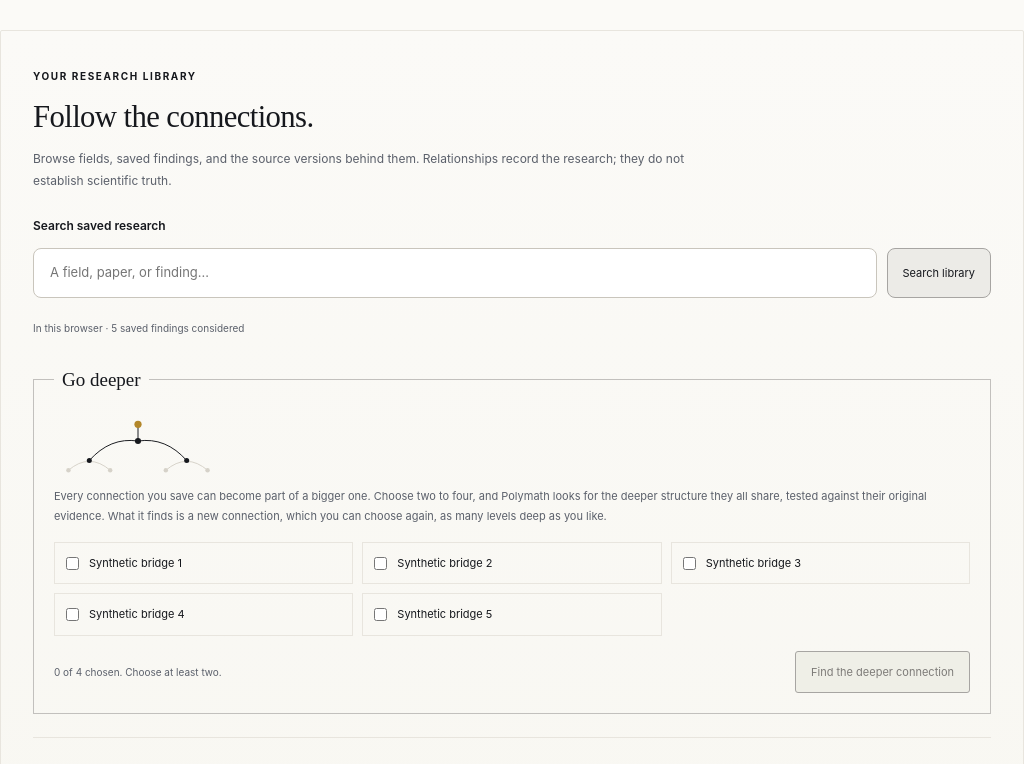
investigating connections between saved bridges › caps the selection and excludes saved answers or untyped older findings
The width and height of the screenshot is (1024, 764).
What coordinates should you click on to do the following:
click the checkbox labelled "Synthetic bridge 1"
I would click on:
 (72, 563)
Its box is [66,556,79,570].
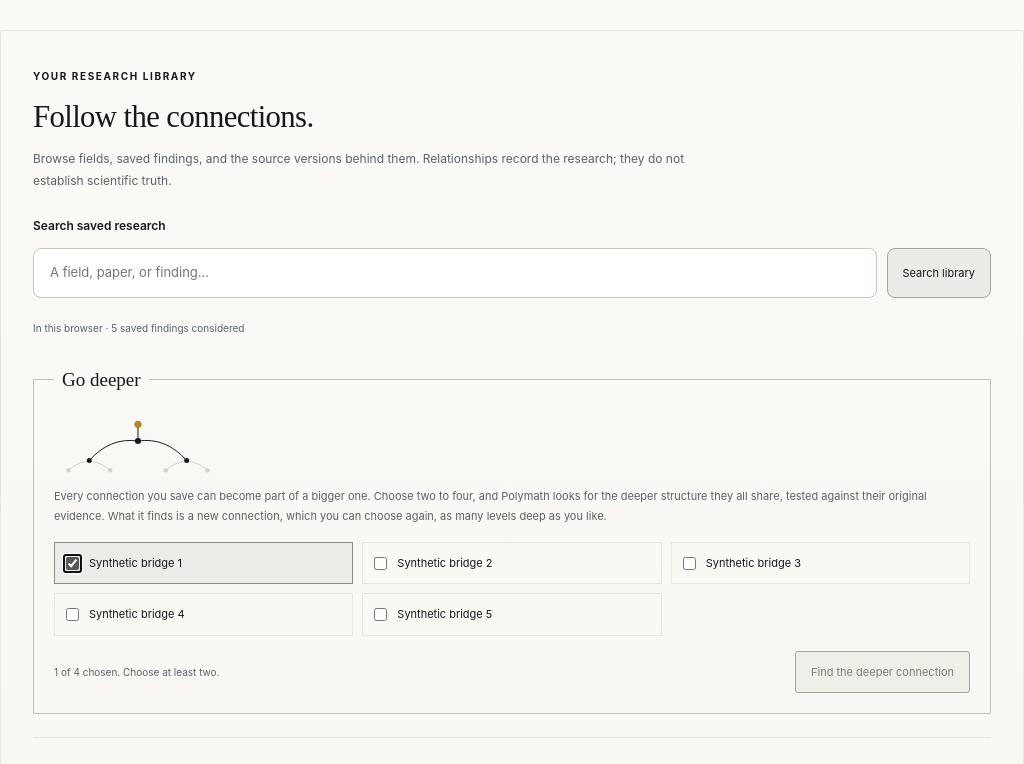
What coordinates should you click on to do the following:
click the checkbox labelled "Synthetic bridge 2"
I would click on:
 (381, 563)
Its box is [374,556,387,570].
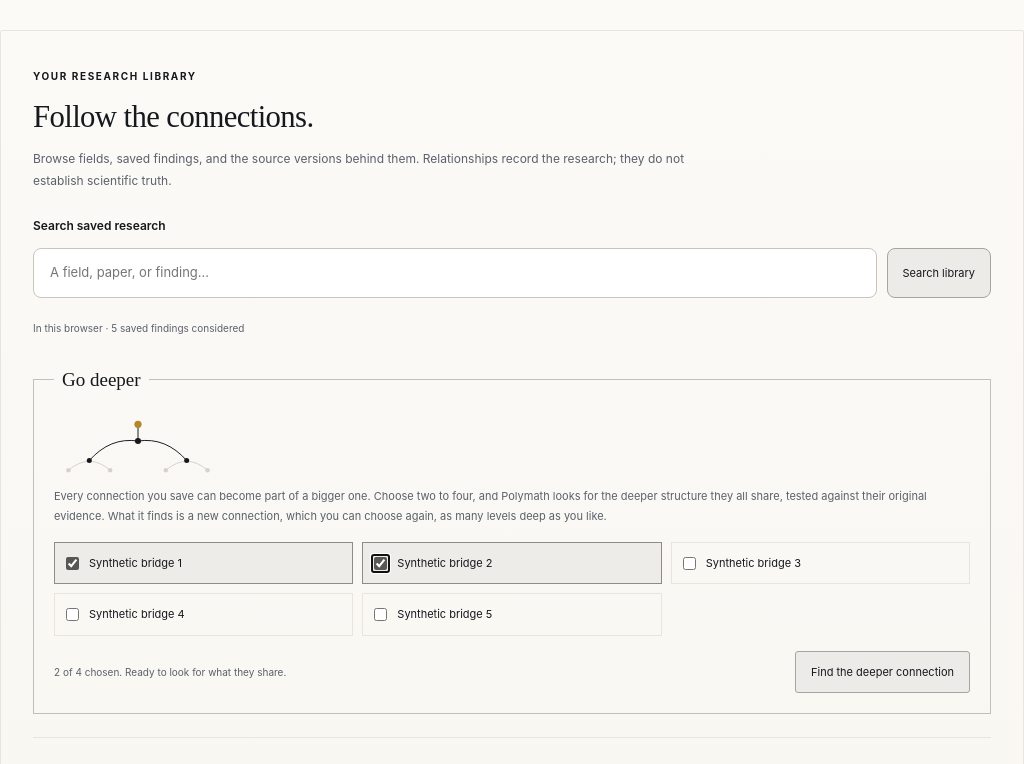
What coordinates should you click on to do the following:
click the checkbox labelled "Synthetic bridge 3"
I would click on:
 (689, 563)
Its box is [683,556,696,570].
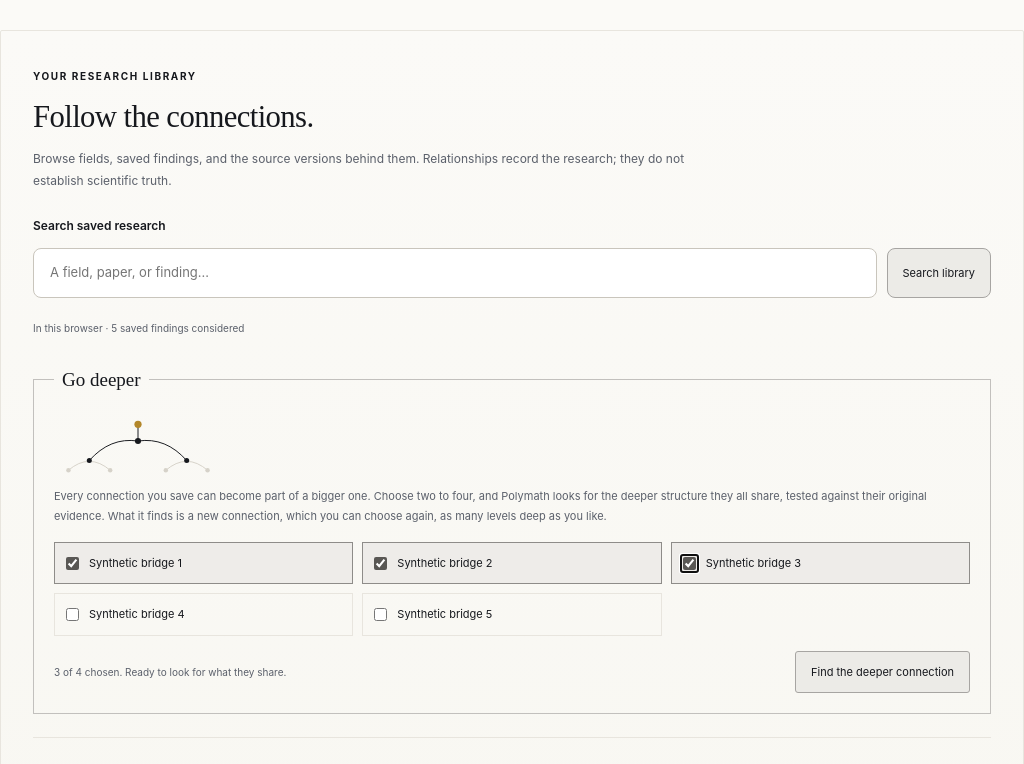
What coordinates should you click on to do the following:
click the checkbox labelled "Synthetic bridge 4"
I would click on:
 (72, 615)
Its box is [66,608,79,621].
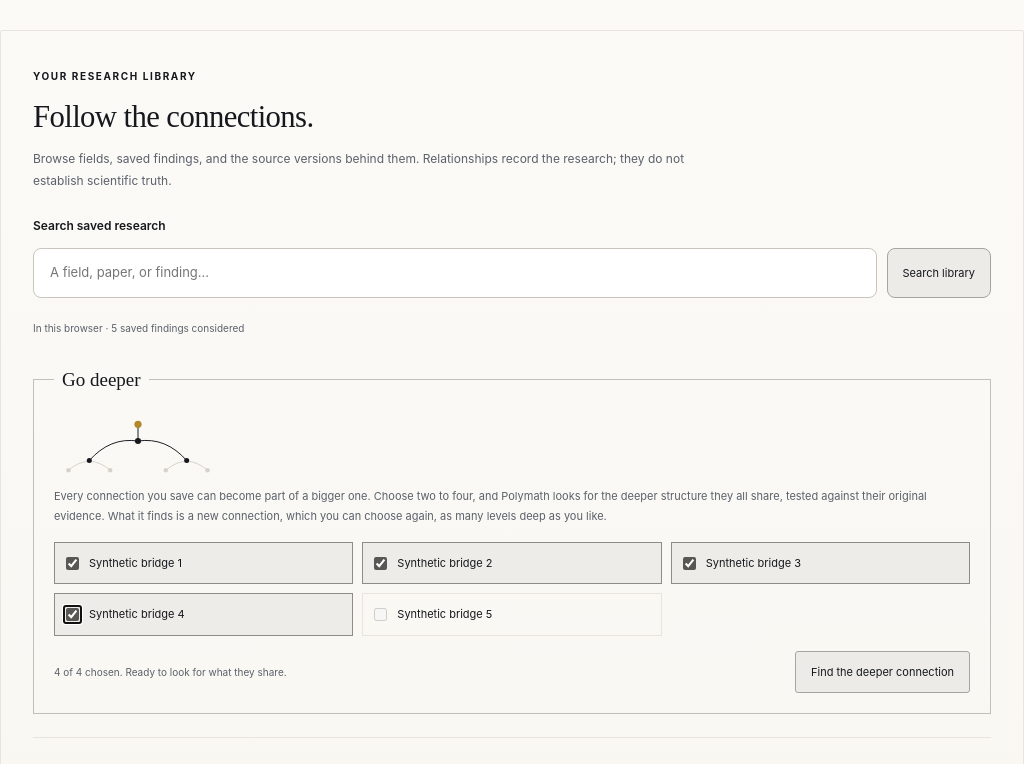
Expected: the checkbox labelled "Synthetic bridge 5" is disabled, [374,608,387,621]
What coordinates should you click on to do the following:
click the checkbox labelled "Synthetic bridge 1"
I would click on:
 (72, 563)
Its box is [66,556,79,570].
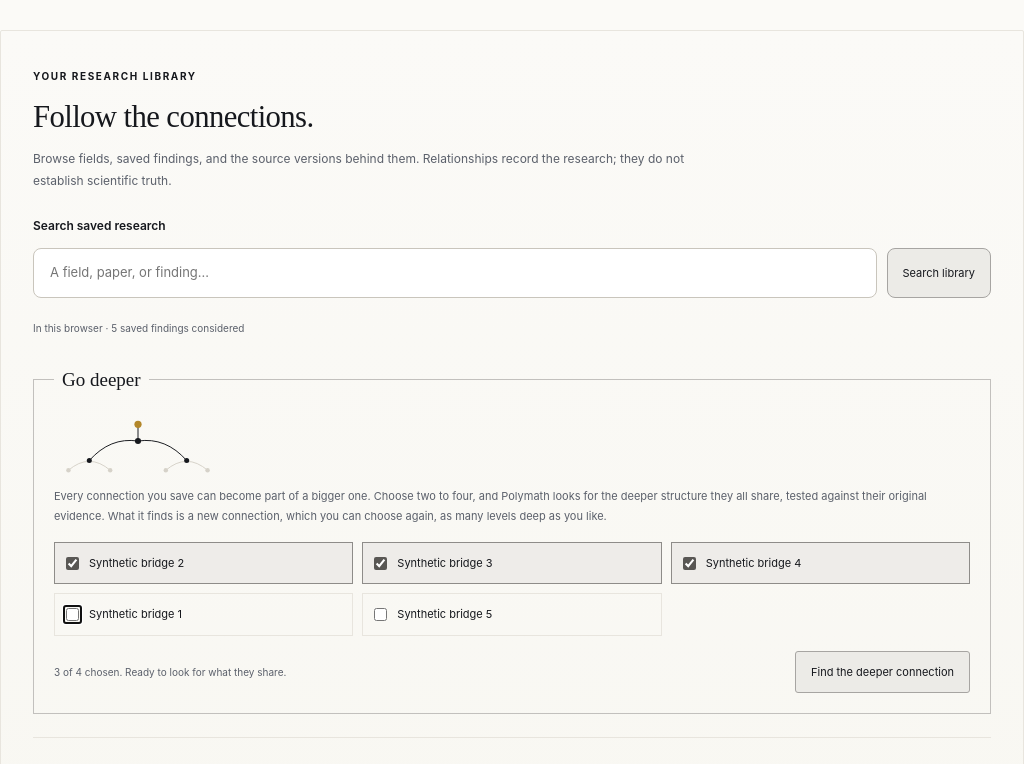
Expected: the button "Find the deeper connection" is enabled, [795,651,970,693]
Expected: the checkbox labelled "Synthetic bridge 5" is enabled, [374,608,387,621]
